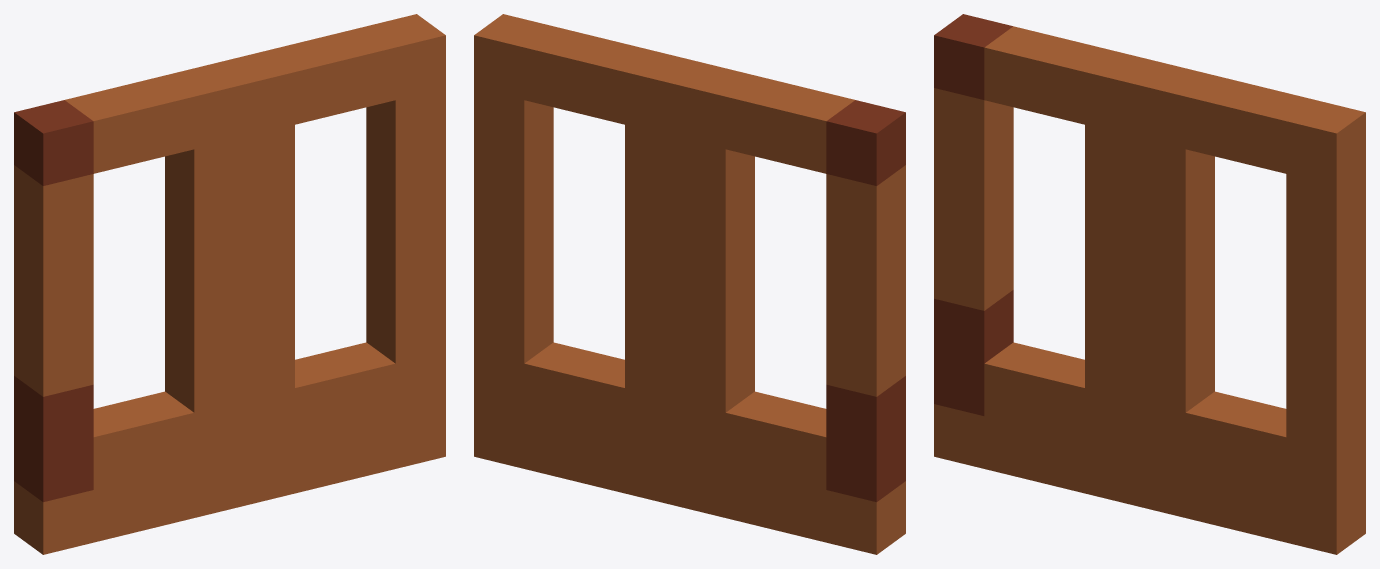
File: Plum Door.glb
The picture shows the model from 3 angles, left to right: view 1: azimuth 30°, elevation 25°; view 2: azimuth 150°, elevation 25°; view 3: azimuth 330°, elevation 25°; orthographic projection.
Parts seen in each view (by area): view 1: generated(Clone); view 2: generated(Clone); view 3: generated(Clone).
Part boxes in pixels (x1,y1,x2,y2): generated(Clone): [14, 14, 445, 554]; generated(Clone): [474, 14, 905, 554]; generated(Clone): [934, 14, 1365, 554].
Bounding box in the file's own units: 8 × 8 × 1.
1 material, 1 textured.
